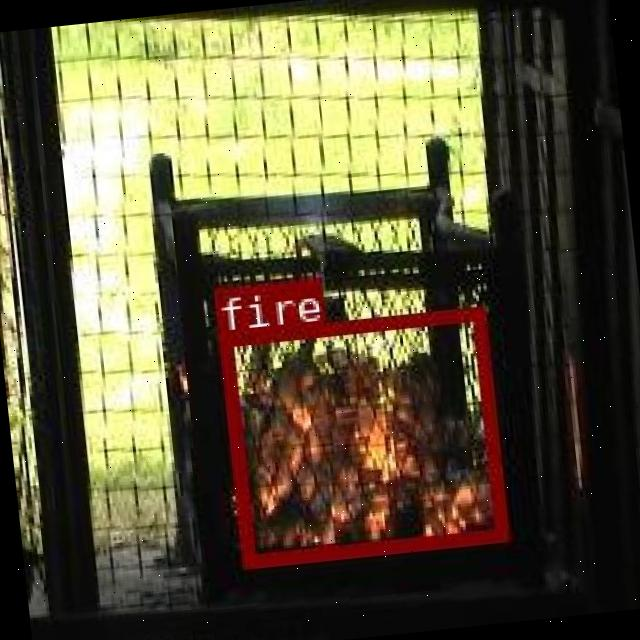fire: (218, 304, 504, 566)
